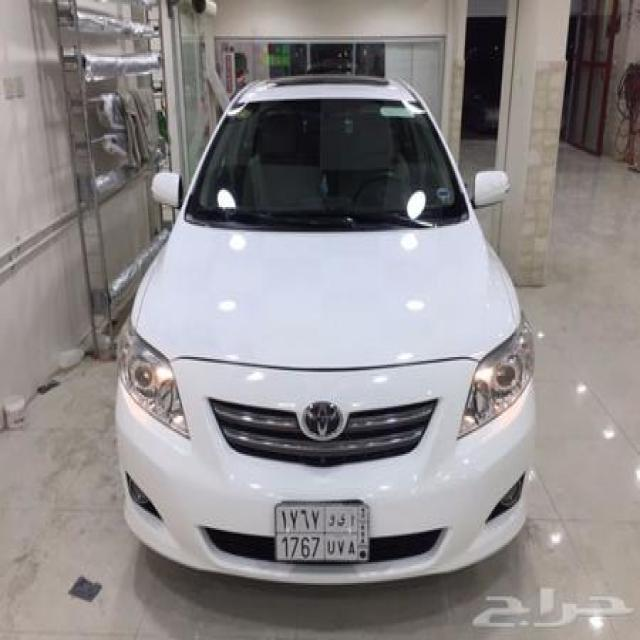license_plate: (272, 499, 371, 566)
